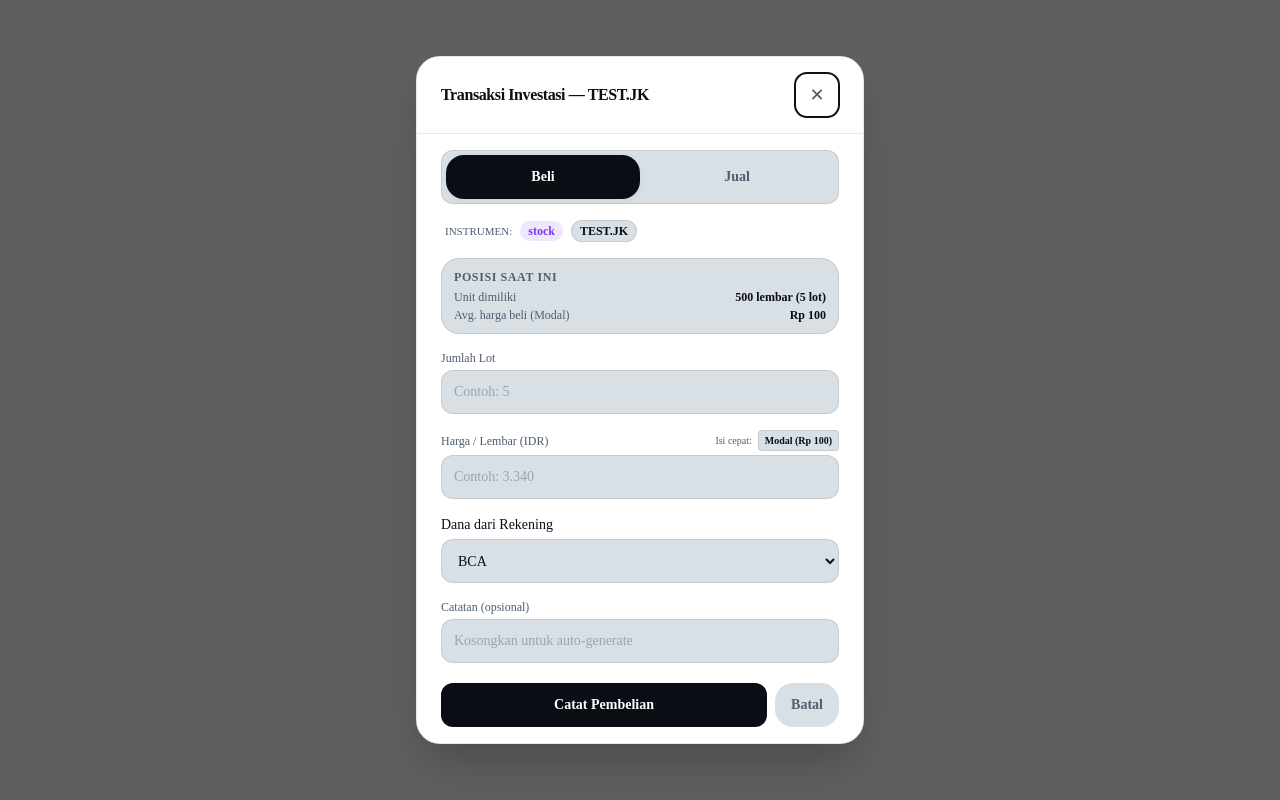
InvestmentTradeModal › maps server balance rejection to the funding account
Type "1" into the number field labelled "Jumlah Lot".
click(640, 392); type("1")  # box [441, 370, 839, 414]
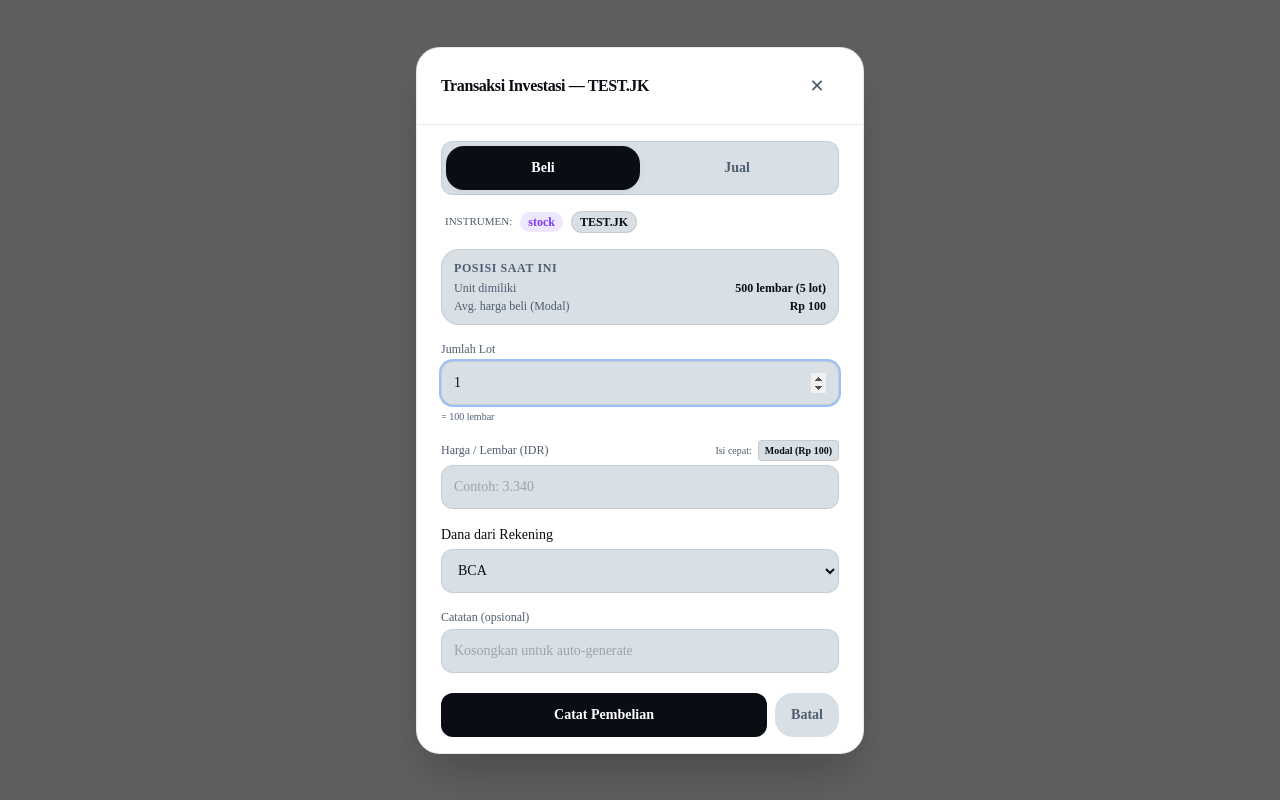
Type "100" into the field labelled "Harga / Lembar (IDR)".
click(640, 486); type("100")  # box [441, 464, 839, 508]
(page scrolled)
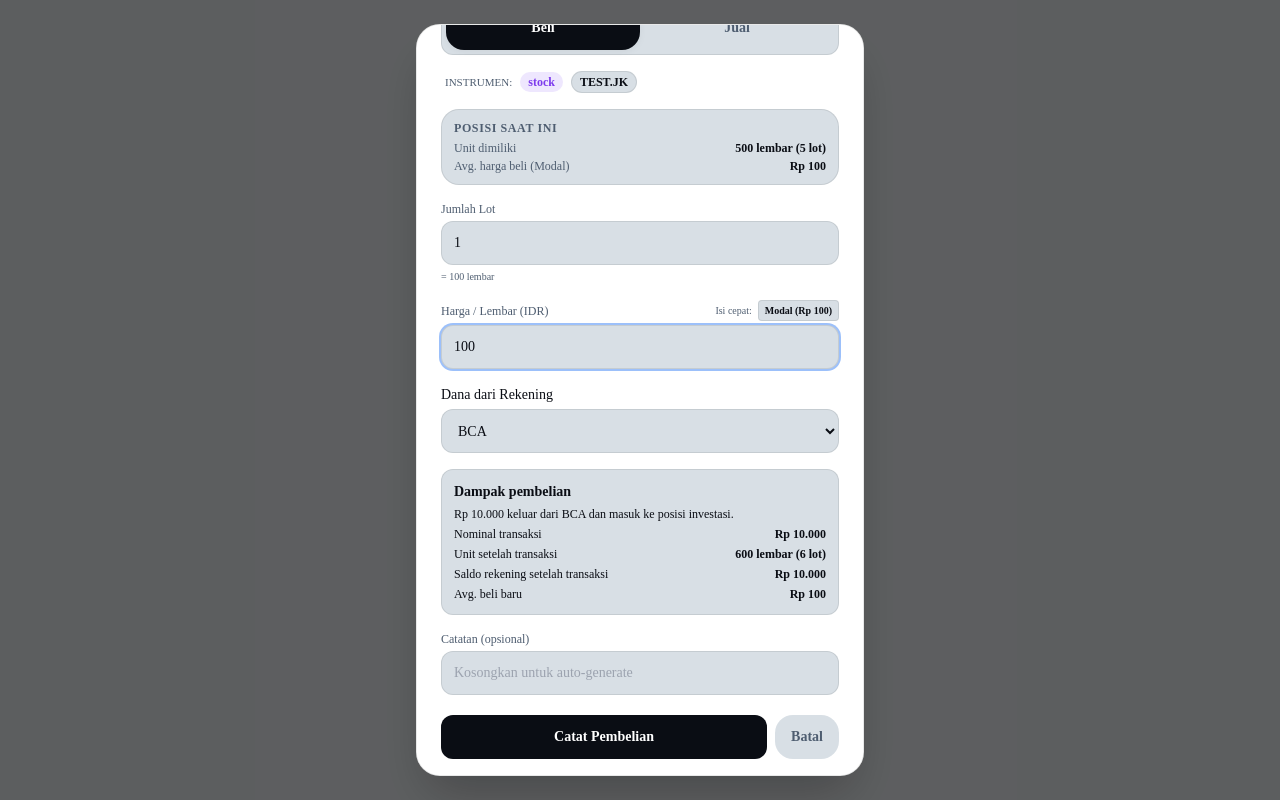
Click the button "Catat Pembelian".
click(604, 737)  # box [441, 715, 767, 759]
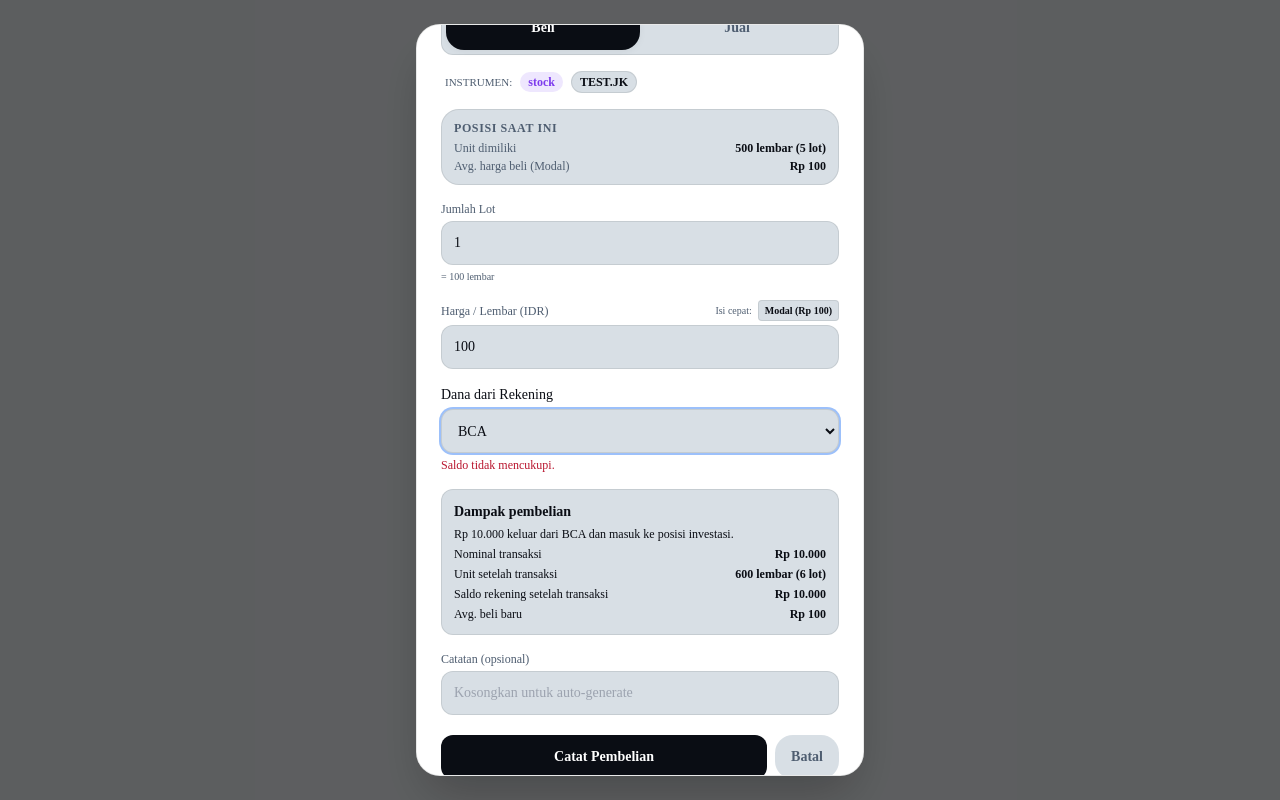
Result: the message shows "Saldo tidak mencukupi" at [441, 458, 555, 472]
